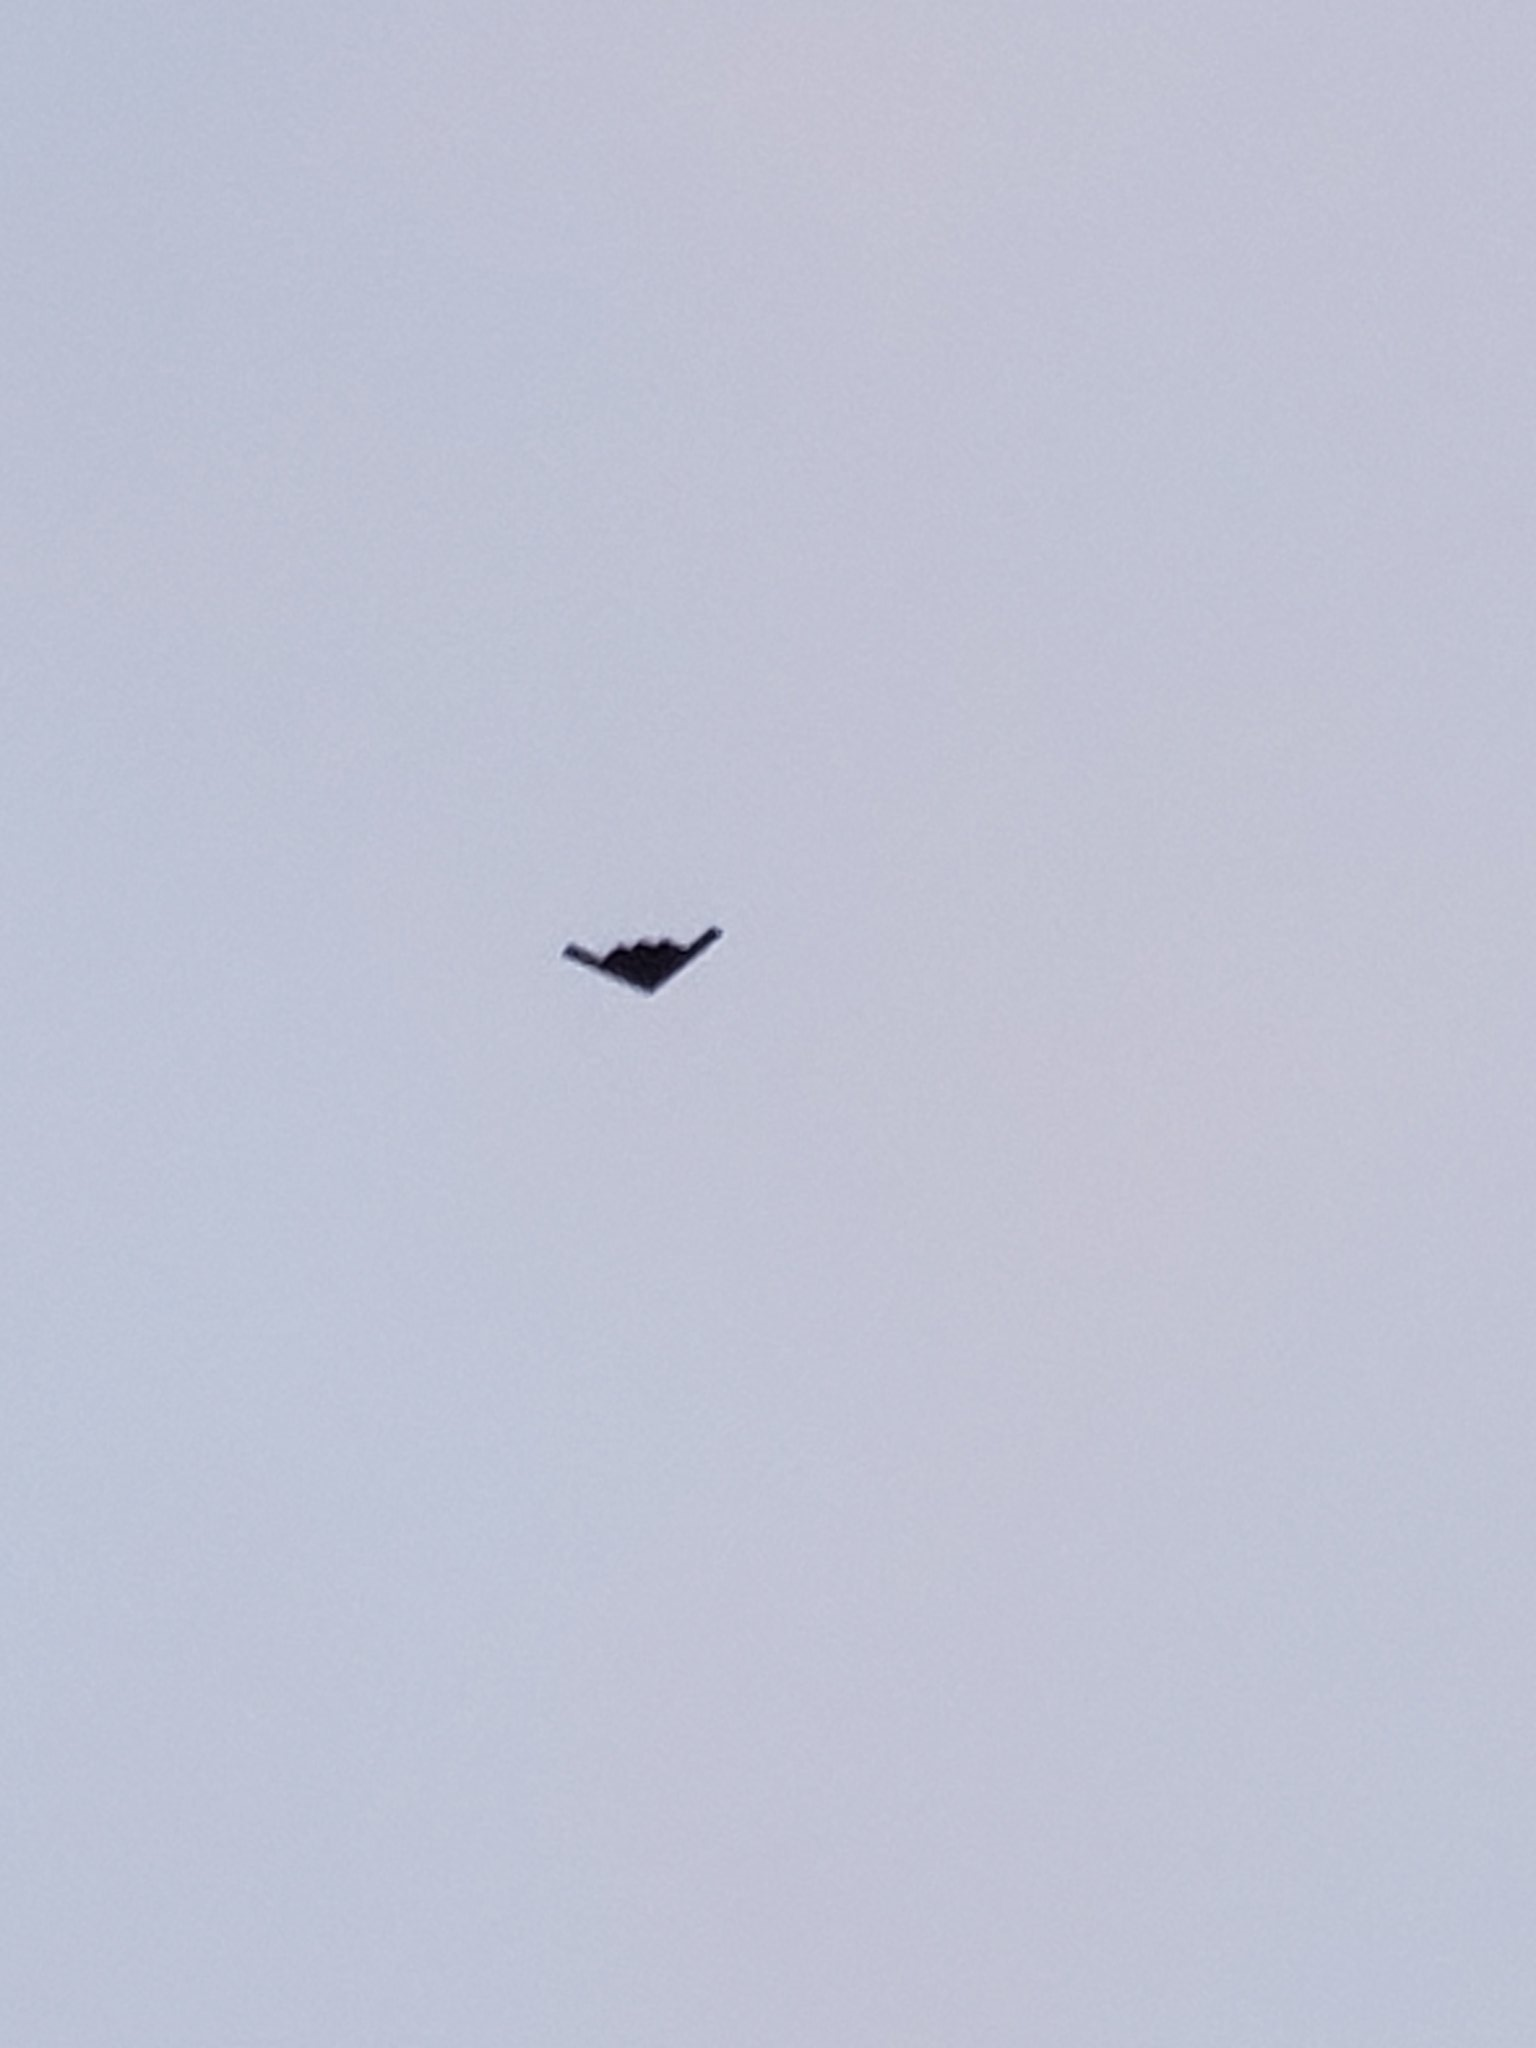B2: (560, 924, 724, 997)
